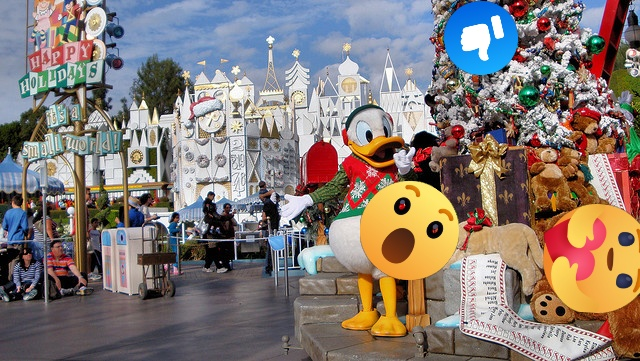care: (543, 204, 640, 313)
like: (444, 1, 518, 75)
wow: (360, 181, 459, 280)
